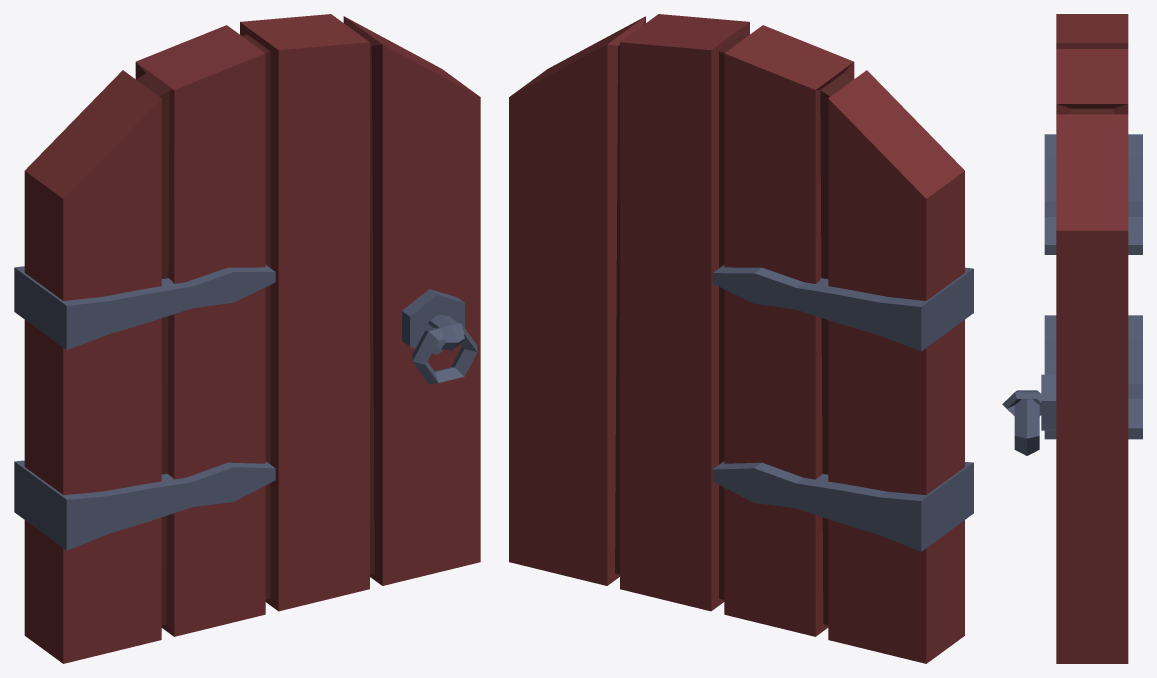
The model's file is wall_cube.glb.
3 renders of one model, left to right at view 1: azimuth 30°, elevation 25°; view 2: azimuth 150°, elevation 25°; view 3: azimuth 270°, elevation 25°, orthographic. The views are drawn at different scales.
Parts seen in each view (by area): view 1: door; view 2: door; view 3: door.
Part boxes in pixels (bbox=[...]): door: bbox=[14, 14, 480, 663]; door: bbox=[509, 14, 973, 663]; door: bbox=[1002, 14, 1142, 663].
Bounding box in the file's own units: 1.9 × 2.42 × 0.5902.
